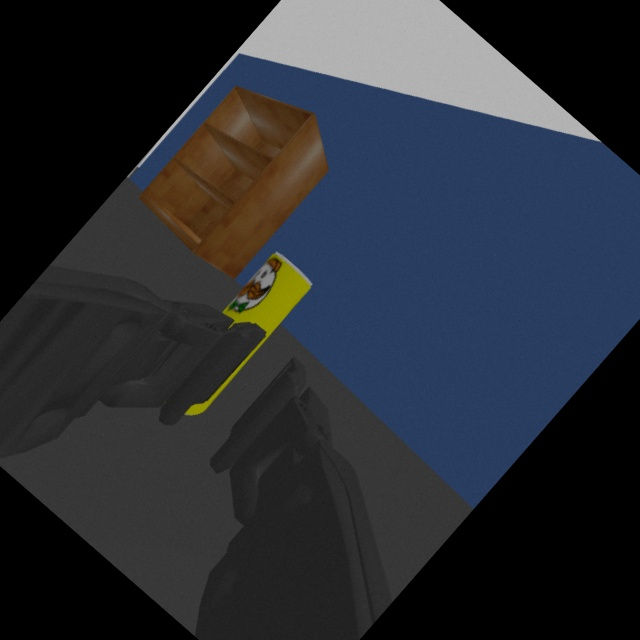chipsdose_gelb: (184, 251, 313, 416)
